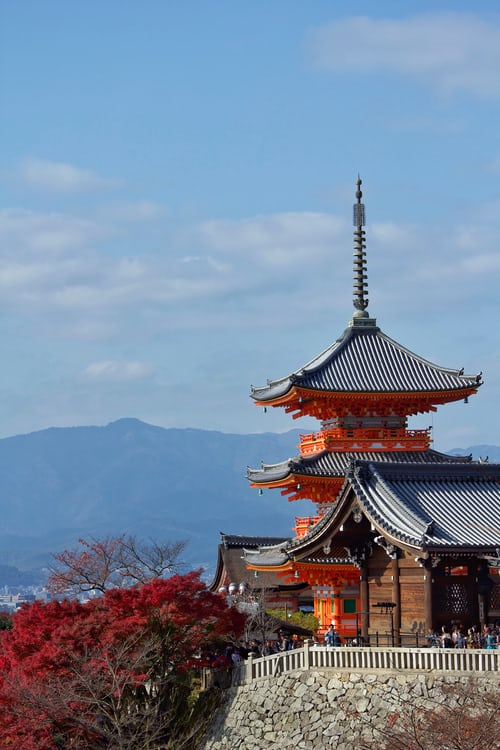Temple: (220, 186, 472, 648)
